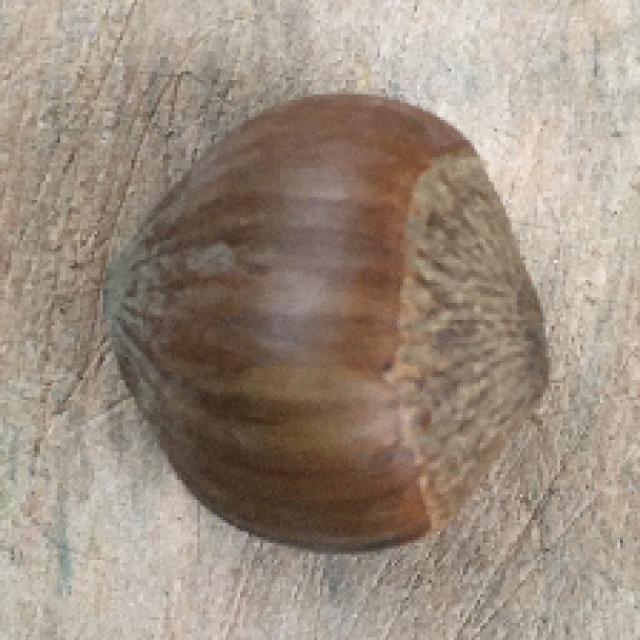damagedHazelnut: (100, 93, 546, 552)
